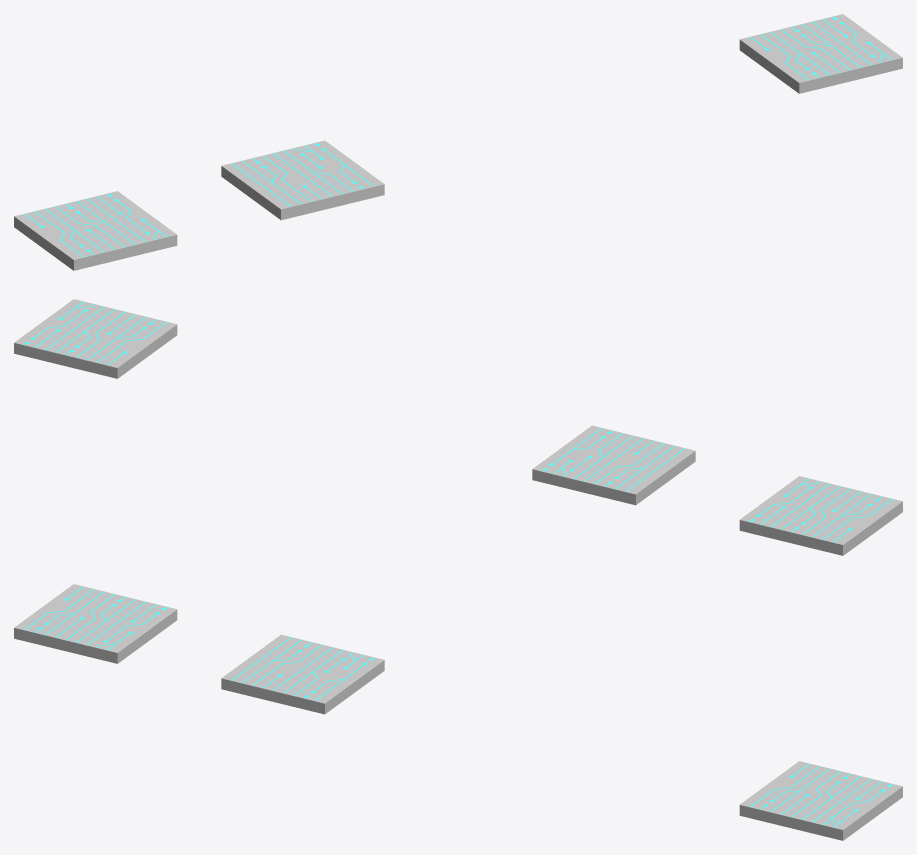
The model's file is floor_plat1.glb.
3 views of the same model, one above another, from view 1: azimuth 30°, elevation 25°; view 2: azimuth 150°, elevation 25°; view 3: azimuth 330°, elevation 25° (orthographic).
Visible parts, largest first — view 1: Cube.001, Plane.042; view 2: Cube.001, Plane.042; view 3: Cube.001, Plane.042.
Part boxes in pixels (left/top/right/bottom): Cube.001: left=14, top=14, right=902, bottom=270; Plane.042: left=24, top=16, right=892, bottom=257; Cube.001: left=14, top=299, right=902, bottom=555; Plane.042: left=24, top=301, right=892, bottom=542; Cube.001: left=14, top=584, right=902, bottom=840; Plane.042: left=24, top=586, right=892, bottom=827.
Bounding box in the file's own units: 160 × 2.01 × 20.
